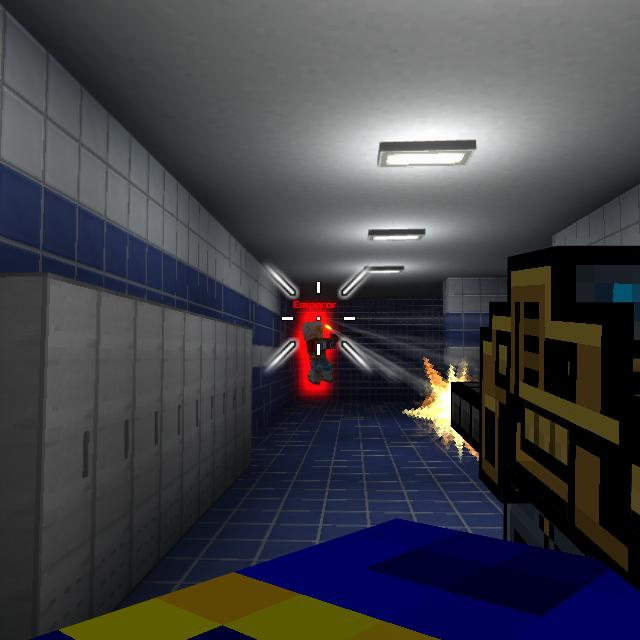Enemy: (301, 321, 336, 385)
